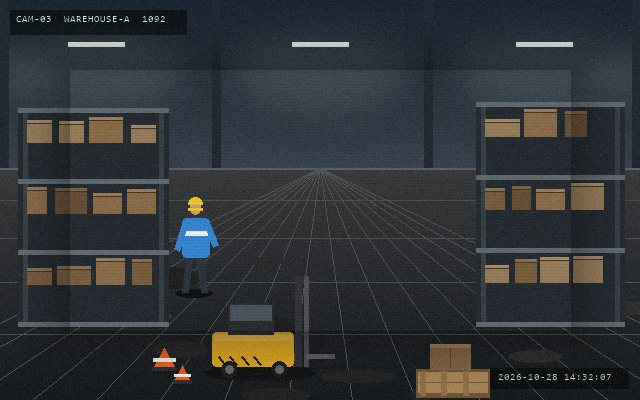cone: (151, 346, 177, 373), (172, 363, 192, 386)
forklift: (208, 274, 336, 380)
pallet: (414, 367, 491, 399)
person: (174, 195, 217, 296)
shelf: (476, 102, 624, 322), (18, 108, 168, 322)
